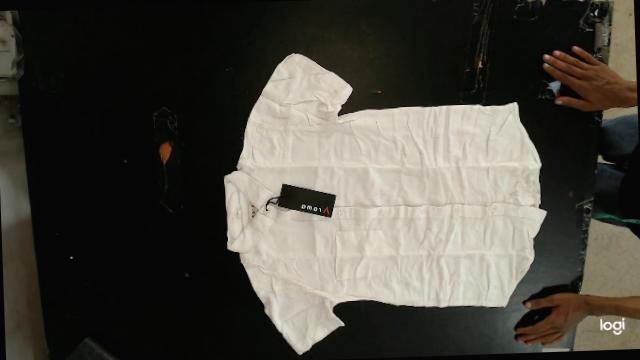new-garment: (224, 54, 546, 354)
